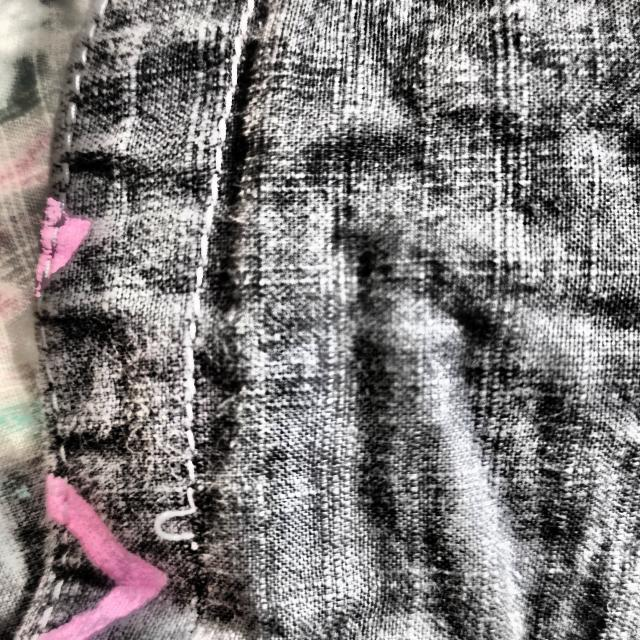gray stitch: (126, 475, 286, 608)
